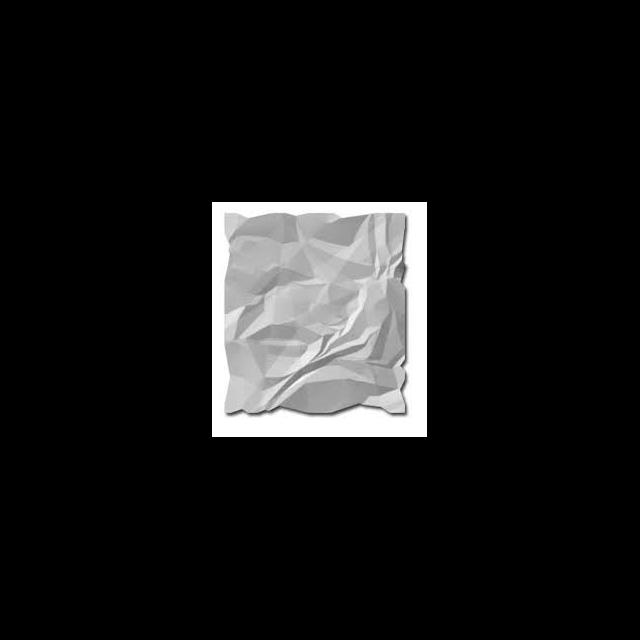paper: (222, 212, 408, 414)
